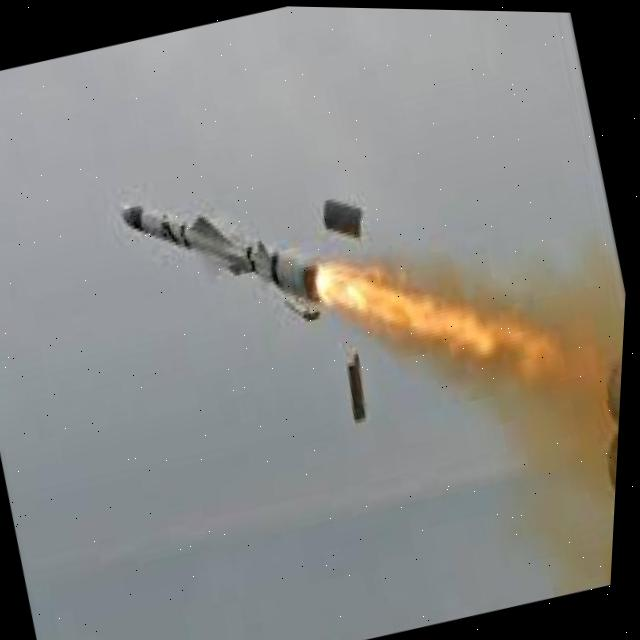missile: (108, 150, 357, 353)
